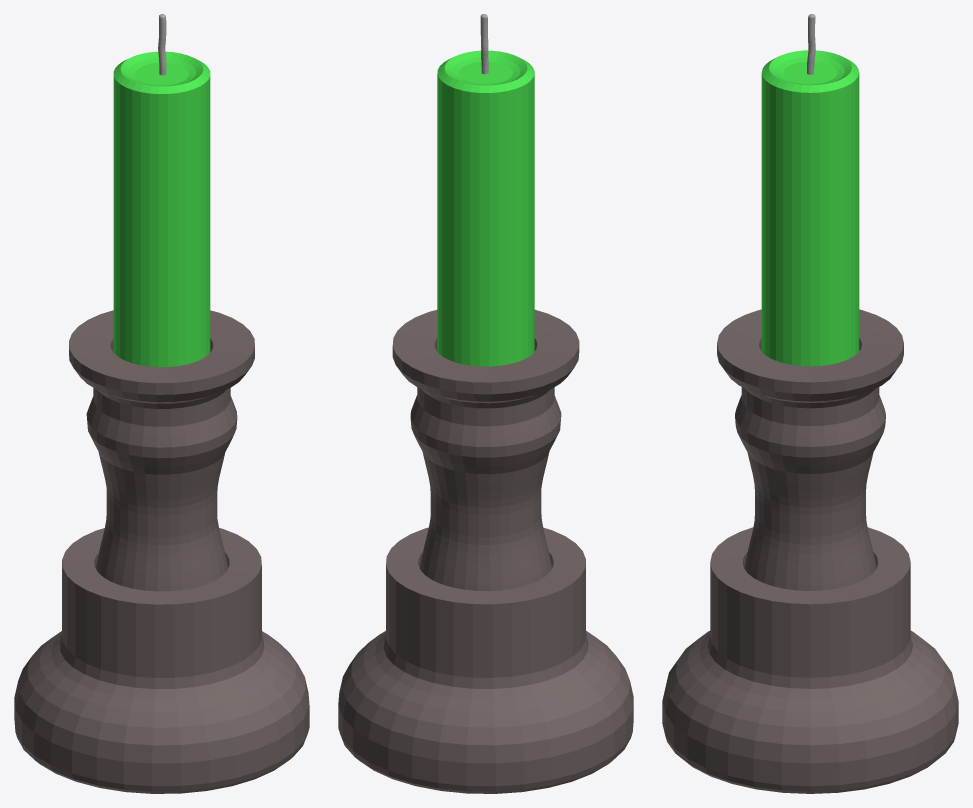
Rendered from candle.glb.
3 views of the same model, side by side, from view 1: azimuth 30°, elevation 25°; view 2: azimuth 150°, elevation 25°; view 3: azimuth 270°, elevation 25° (orthographic).
Parts seen in each view (by area): view 1: Candlestick P1, Candle; view 2: Candlestick P1, Candle; view 3: Candlestick P1, Candle.
Part boxes in pixels (left/top/right/bottom): Candlestick P1: left=14, top=310, right=309, bottom=793; Candle: left=113, top=14, right=210, bottom=367; Candlestick P1: left=338, top=309, right=633, bottom=793; Candle: left=437, top=14, right=534, bottom=366; Candlestick P1: left=662, top=309, right=958, bottom=793; Candle: left=761, top=14, right=859, bottom=366.
Size of the model in its own units: 0.9128 by 2.45 by 0.9128.
